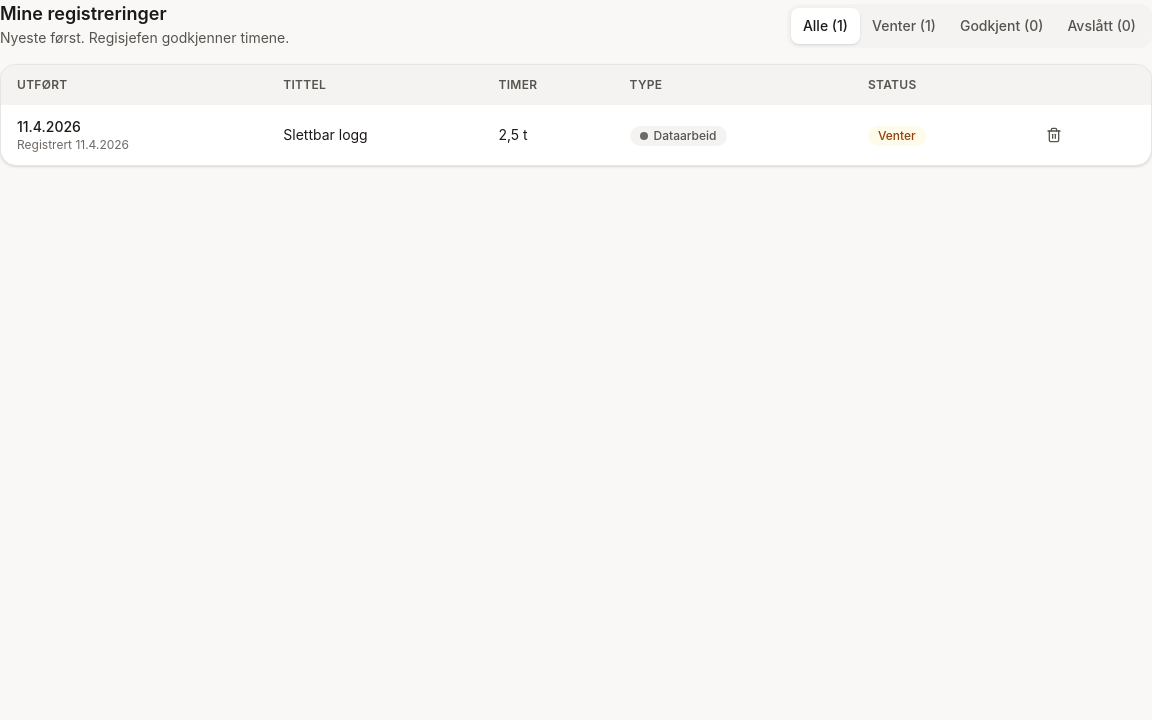
it: WorkLogList › deletes a pending manual log after confirming, without opening the details
Click the button named "Slett Slettbar logg" at (1054, 135), box top-left (1034, 117), bottom-right (1074, 153)
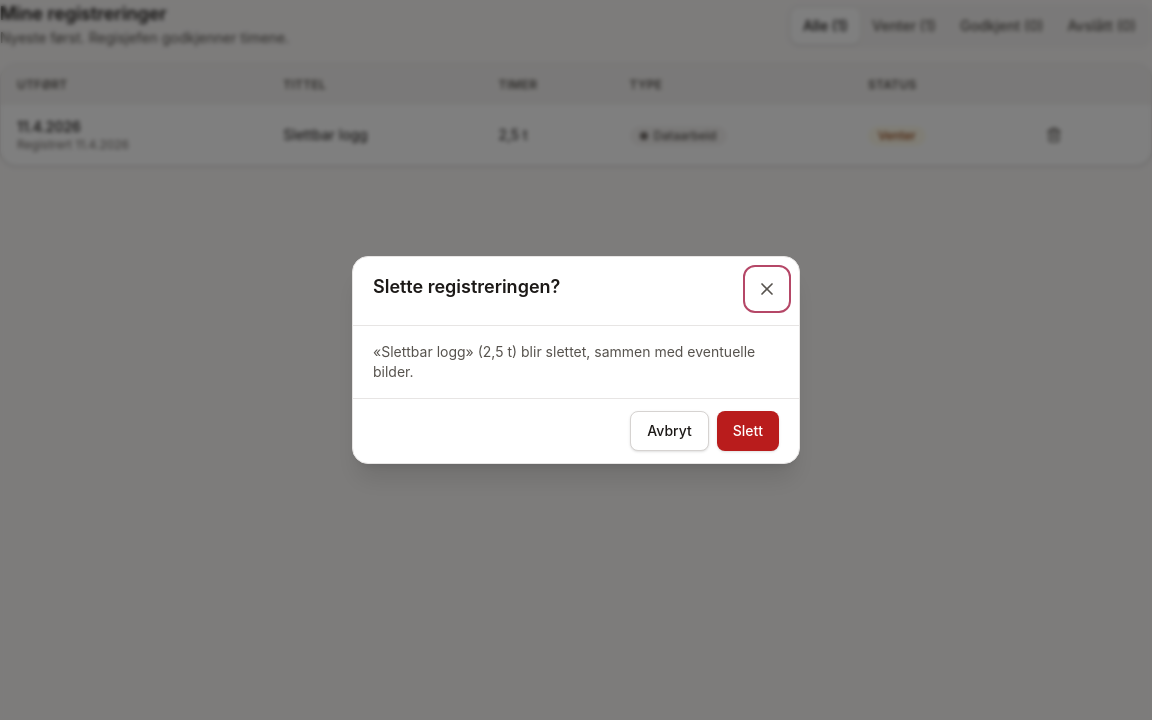
Click the button "Slett" at (748, 431), box top-left (717, 411), bottom-right (779, 451)
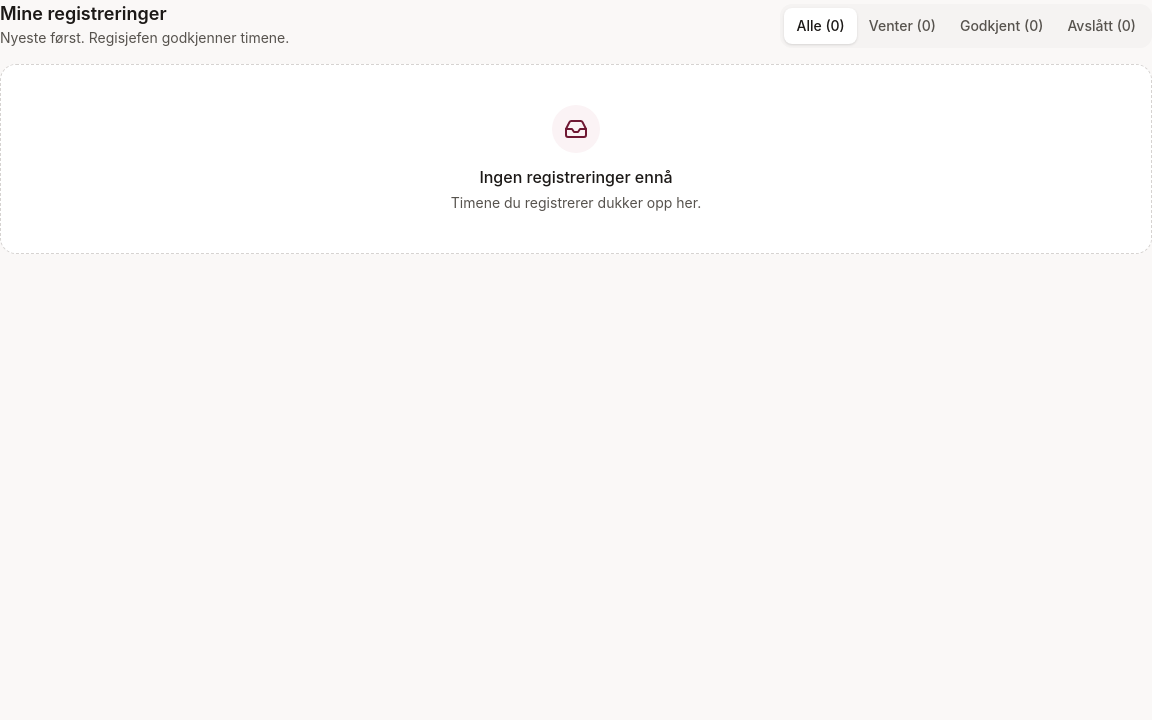
Expected: the text "Slettbar logg" is gone
